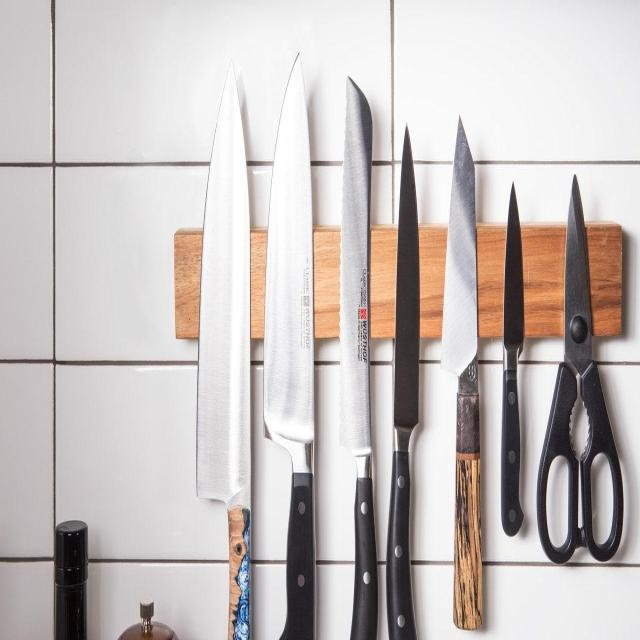weapon: (189, 53, 265, 640), (261, 44, 331, 640), (438, 112, 494, 640), (338, 73, 382, 640), (386, 115, 425, 640), (500, 174, 528, 534)
